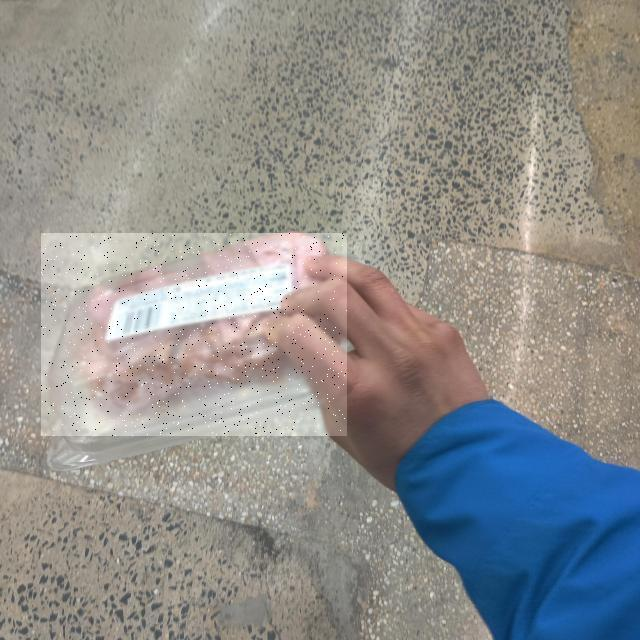Meat: (41, 233, 347, 436)
